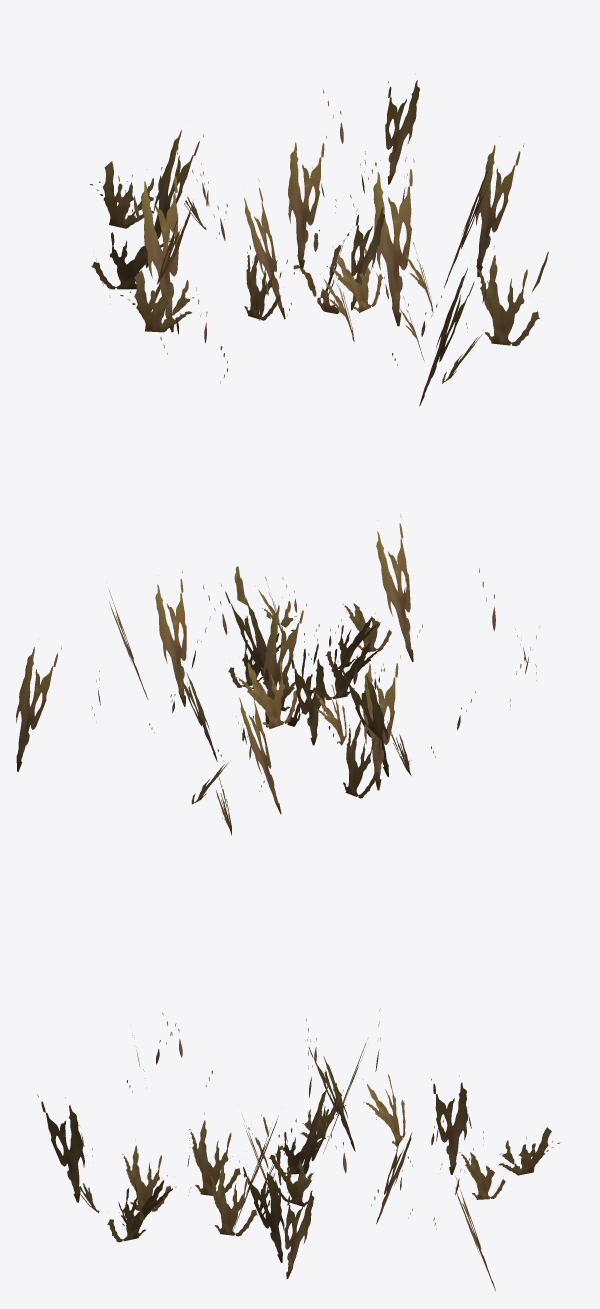
3 renders of one model, top to bottom at view 1: azimuth 30°, elevation 25°; view 2: azimuth 150°, elevation 25°; view 3: azimuth 270°, elevation 25°, orthographic. The views are drawn at different scales.
Visible parts, largest first — view 1: grasspatch3; view 2: grasspatch3; view 3: grasspatch3.
Part boxes in pixels (bbox=[...]): grasspatch3: bbox=[90, 80, 548, 405]; grasspatch3: bbox=[16, 513, 540, 835]; grasspatch3: bbox=[37, 1008, 560, 1290].
Size of the model in its own units: 1.26 by 0.5837 by 1.42.
1 material, 1 textured.
